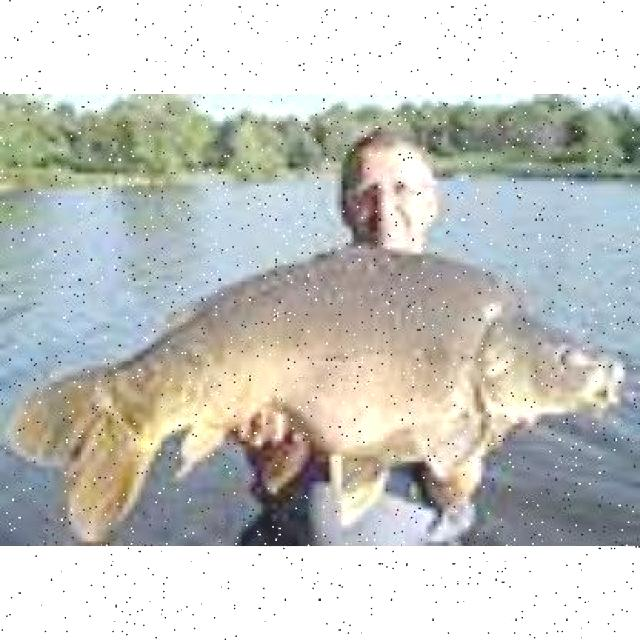ikan-mas: (16, 257, 618, 512)
